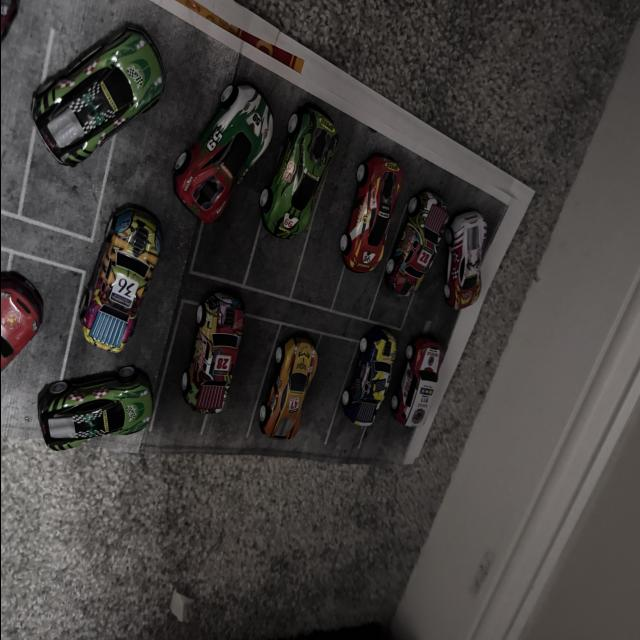Car: (137, 44, 288, 244), (0, 29, 166, 205), (22, 209, 162, 401), (342, 140, 438, 268), (270, 96, 342, 252), (42, 372, 174, 457), (167, 286, 260, 406), (242, 326, 324, 445), (440, 201, 526, 311), (391, 331, 453, 481), (388, 180, 457, 308), (0, 285, 50, 400), (356, 318, 402, 406)
